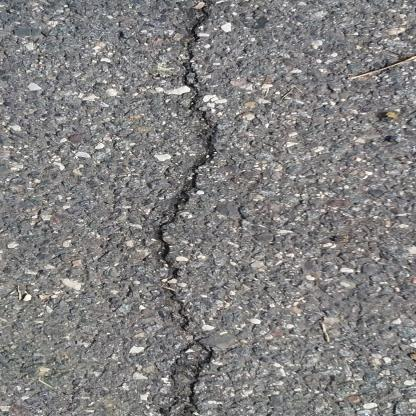Cracks: (143, 0, 220, 416)
